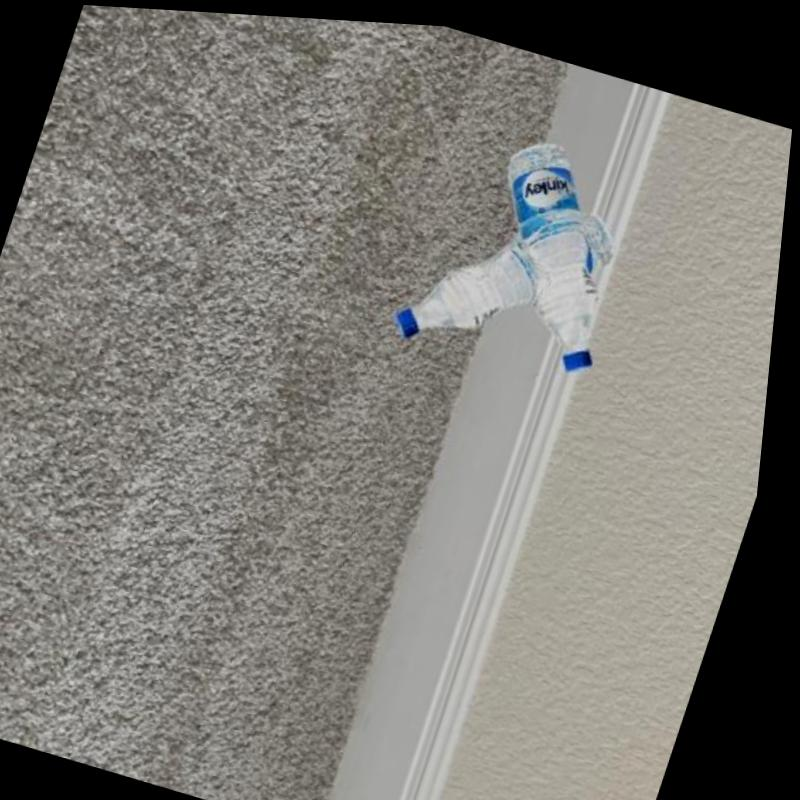botella: (450, 124, 663, 375), (394, 163, 629, 380)
